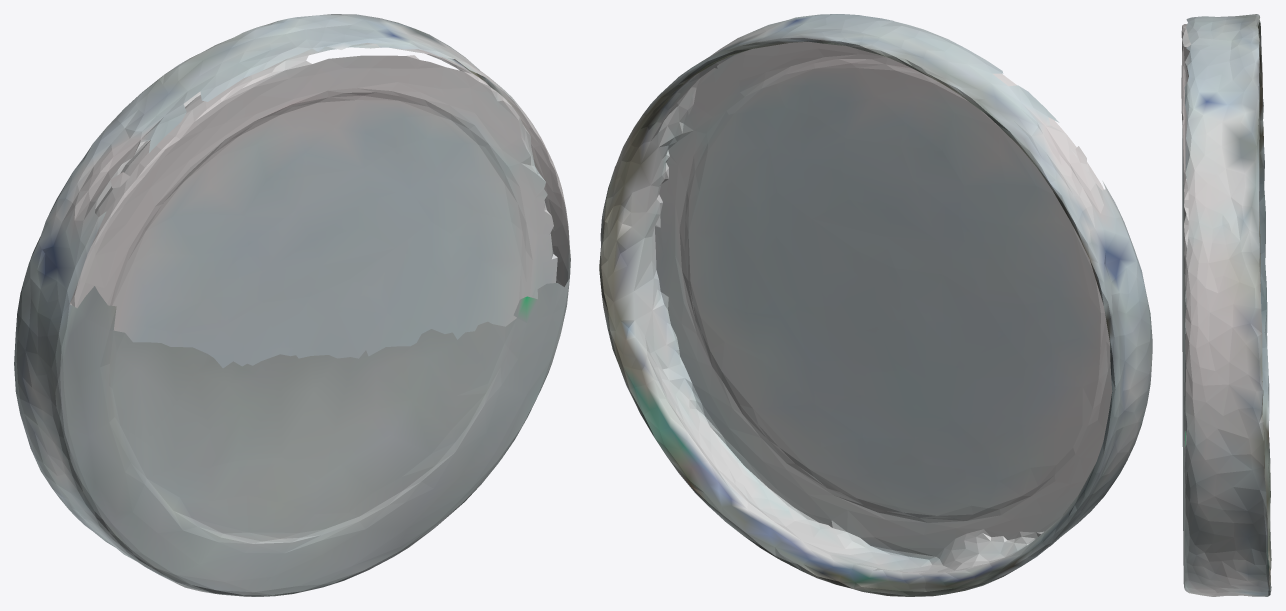
Rendered from scan.obj.
3 renders of one model, left to right at view 1: azimuth 30°, elevation 25°; view 2: azimuth 150°, elevation 25°; view 3: azimuth 270°, elevation 25°, orthographic. The views are drawn at different scales.
Parts seen in each view (by area): view 1: scan.ply; view 2: scan.ply; view 3: scan.ply.
Part boxes in pixels (bbox=[...]): scan.ply: bbox=[14, 14, 570, 596]; scan.ply: bbox=[599, 14, 1152, 596]; scan.ply: bbox=[1181, 14, 1271, 596].
Size of the model in its own units: 0.114 by 0.1146 by 0.0176.
